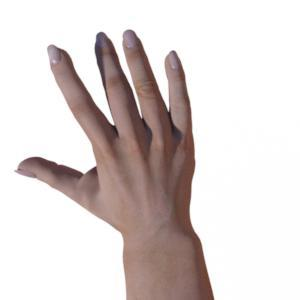paper: (17, 30, 201, 288)
